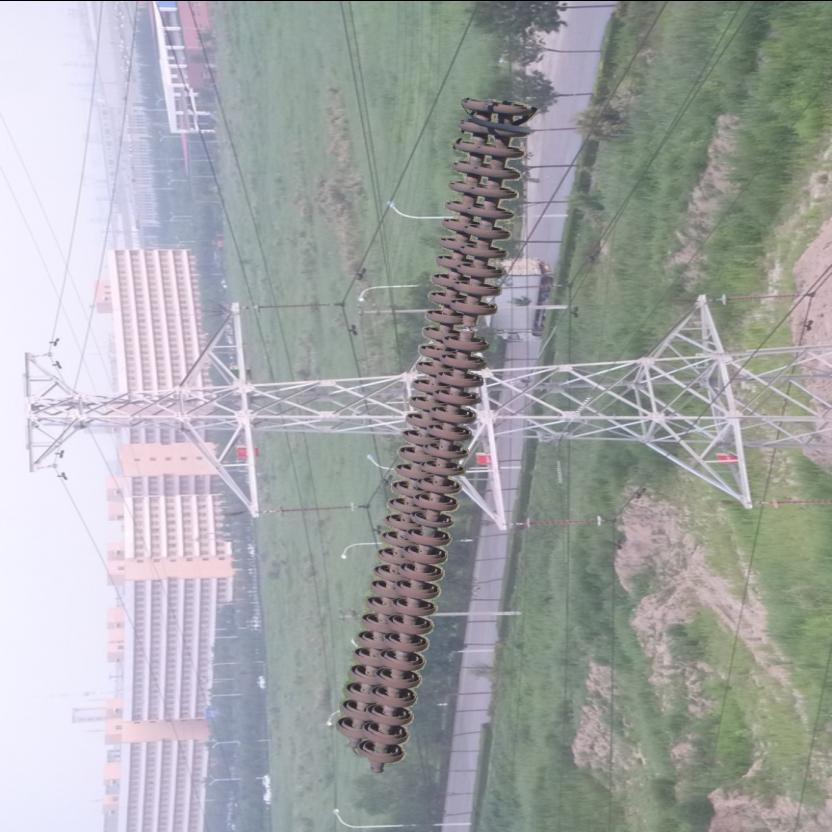defect: (440, 293, 498, 353)
